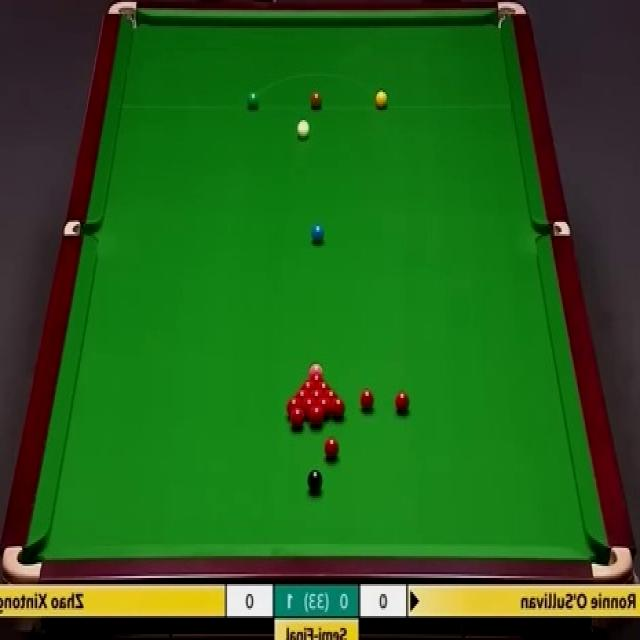pocket: (3, 542, 43, 583), (589, 542, 634, 578), (495, 0, 529, 34), (109, 0, 141, 32), (64, 222, 99, 242), (536, 222, 572, 236)
